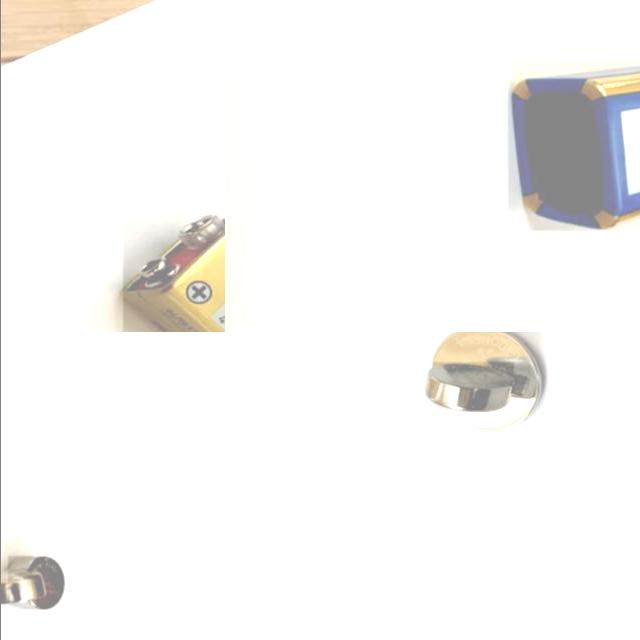9V: (507, 58, 640, 231), (122, 211, 224, 332)
